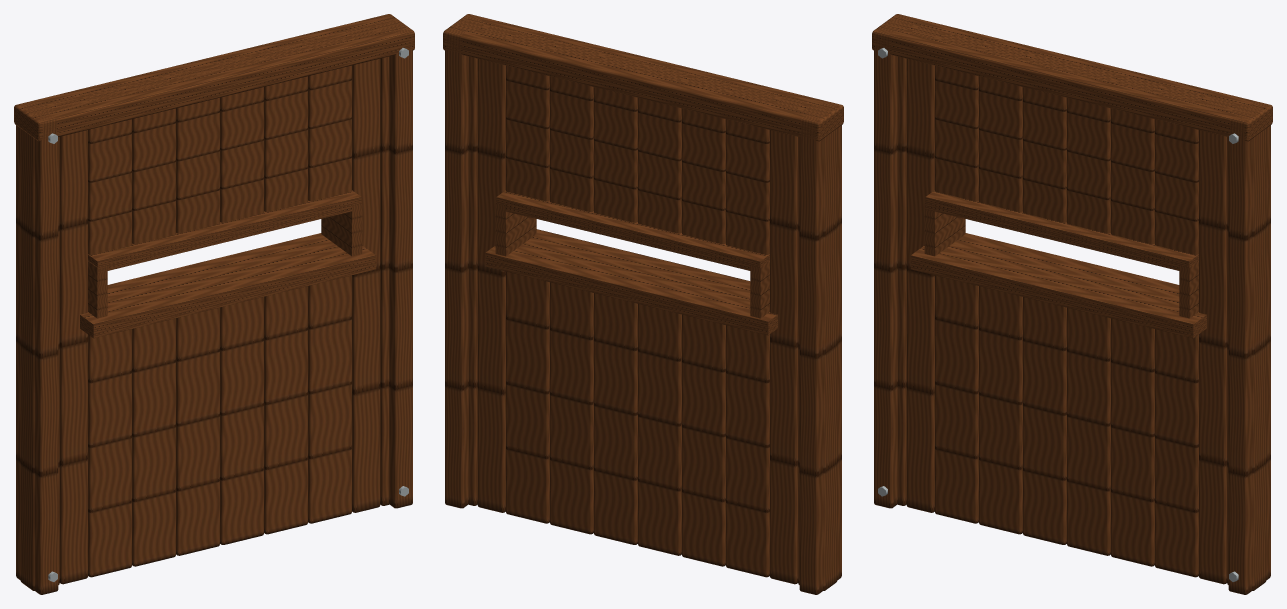
The model's file is modular-survival-base-builder-wall-loophole-57754d30__24159.glb.
3 views of the same model, side by side, from view 1: azimuth 30°, elevation 25°; view 2: azimuth 150°, elevation 25°; view 3: azimuth 330°, elevation 25° (orthographic).
Parts seen in each view (by area): view 1: wall-loophole; view 2: wall-loophole; view 3: wall-loophole.
Boxes of the visible parts, box(x1,y1,x2,y2) form: wall-loophole: box(14, 14, 414, 594); wall-loophole: box(443, 14, 843, 594); wall-loophole: box(872, 14, 1272, 594).
Size of the model in its own units: 2 by 2.4 by 0.3399.
Materials: 2 (1 with a texture image).
